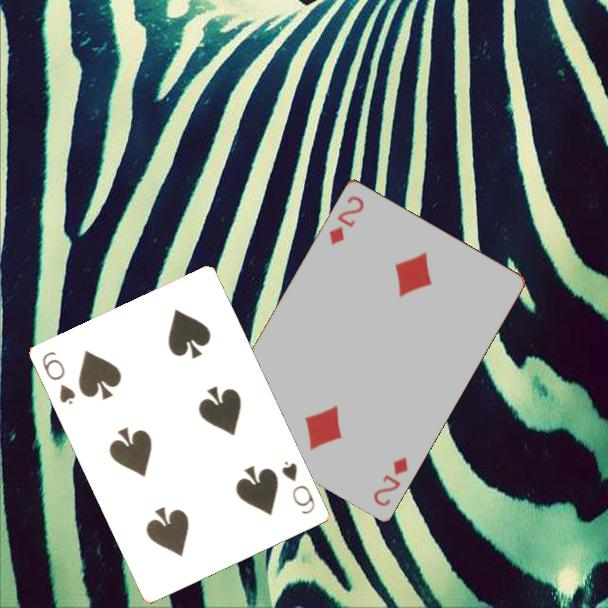d02: (325, 192, 367, 247), (370, 453, 411, 509)
s06: (278, 457, 318, 517), (39, 348, 79, 408)
